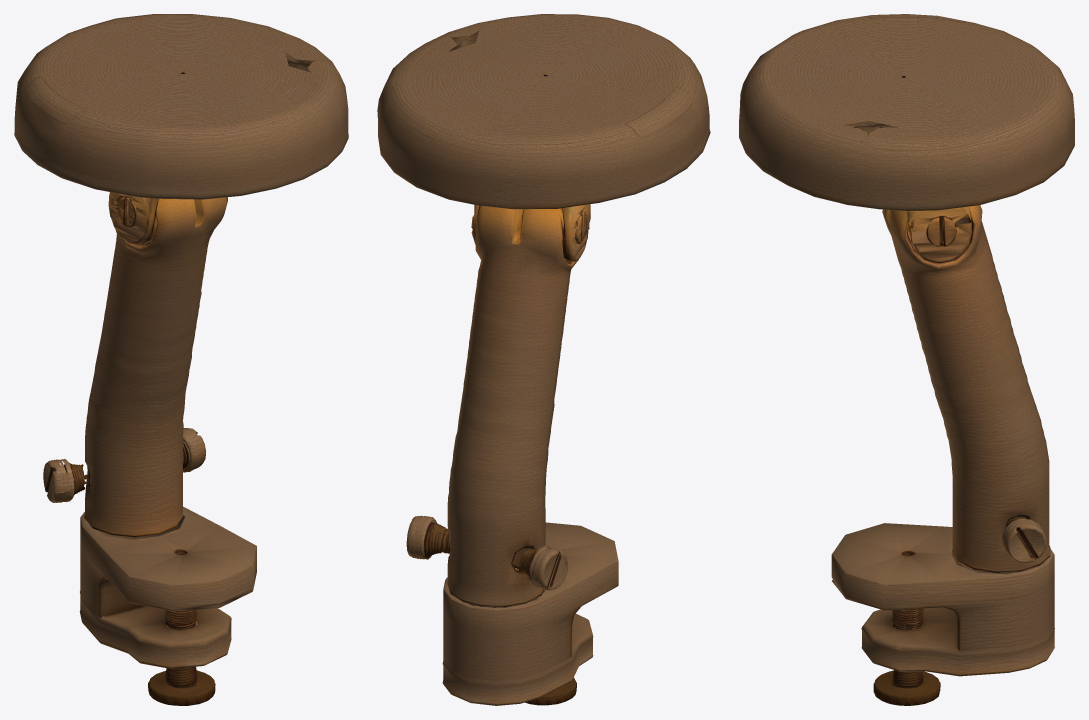
The model's file is clamp_lamp_01.glb.
The picture shows the model from 3 angles, left to right: view 1: azimuth 30°, elevation 25°; view 2: azimuth 150°, elevation 25°; view 3: azimuth 270°, elevation 25°; orthographic projection.
Visible parts, largest first — view 1: tripo_part_1, tripo_part_0, tripo_part_2, tripo_part_3, tripo_part_5, tripo_part_6, tripo_part_4, tripo_part_7; view 2: tripo_part_1, tripo_part_0, tripo_part_2, tripo_part_6, tripo_part_5, tripo_part_4, tripo_part_3; view 3: tripo_part_1, tripo_part_0, tripo_part_2, tripo_part_5, tripo_part_3, tripo_part_4, tripo_part_7.
Boxes of the visible parts, box(x1,y1,x2,y2) form: tripo_part_1: box(14, 14, 348, 199); tripo_part_0: box(83, 197, 227, 537); tripo_part_2: box(79, 506, 256, 668); tripo_part_3: box(148, 666, 215, 705); tripo_part_5: box(108, 192, 227, 244); tripo_part_6: box(43, 459, 89, 502); tripo_part_4: box(183, 428, 205, 472); tripo_part_7: box(165, 609, 196, 629); tripo_part_1: box(377, 14, 710, 209); tripo_part_0: box(447, 205, 578, 607); tripo_part_2: box(442, 522, 618, 705); tripo_part_6: box(514, 545, 568, 590); tripo_part_5: box(471, 204, 590, 261); tripo_part_4: box(406, 515, 450, 559); tripo_part_3: box(525, 678, 576, 705); tripo_part_1: box(739, 14, 1074, 211); tripo_part_0: box(882, 205, 1050, 573); tripo_part_2: box(831, 523, 1054, 676); tripo_part_5: box(905, 206, 971, 263); tripo_part_3: box(873, 670, 940, 705); tripo_part_4: box(1001, 517, 1046, 562); tripo_part_7: box(892, 608, 923, 630).
Size of the model in its own units: 0.4731 by 0.9784 by 0.4807.
Materials: 8 (8 with a texture image).
